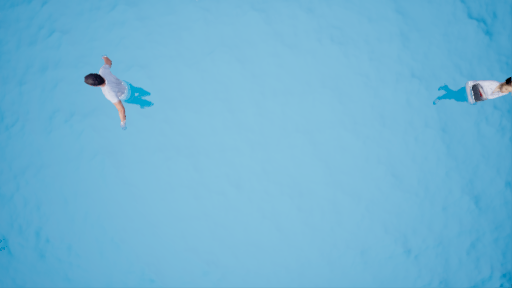person: (81, 52, 155, 131), (431, 78, 512, 114)
